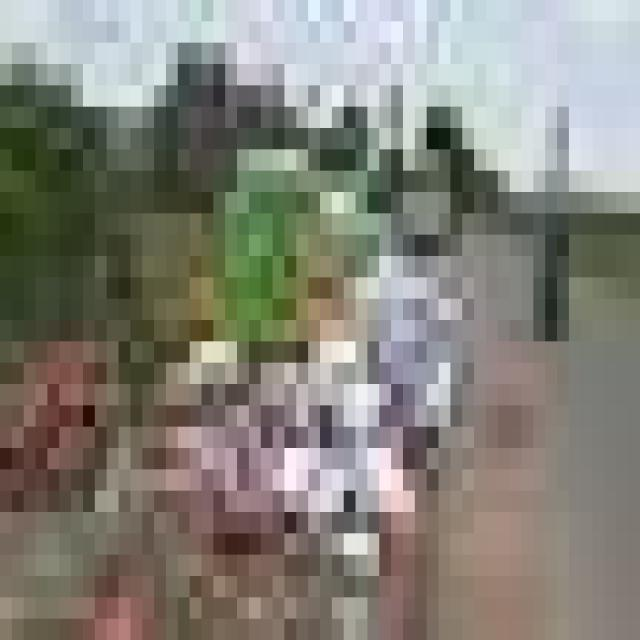trash: (0, 2, 503, 638)
